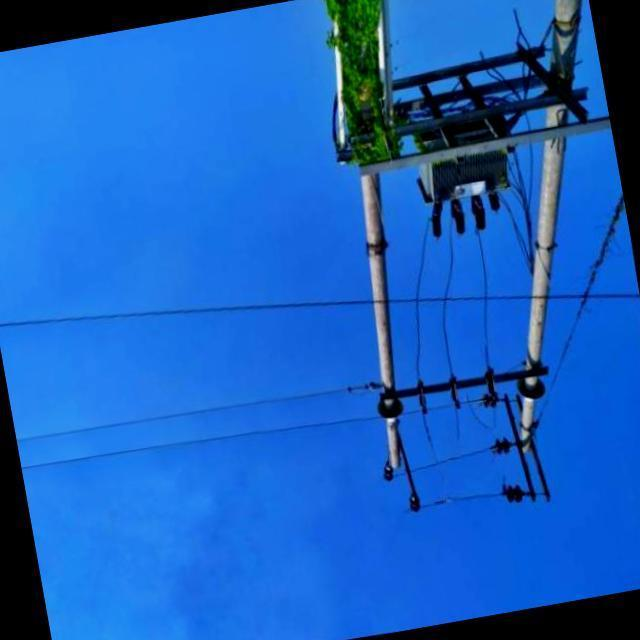critical vegetation: (308, 0, 425, 231)
